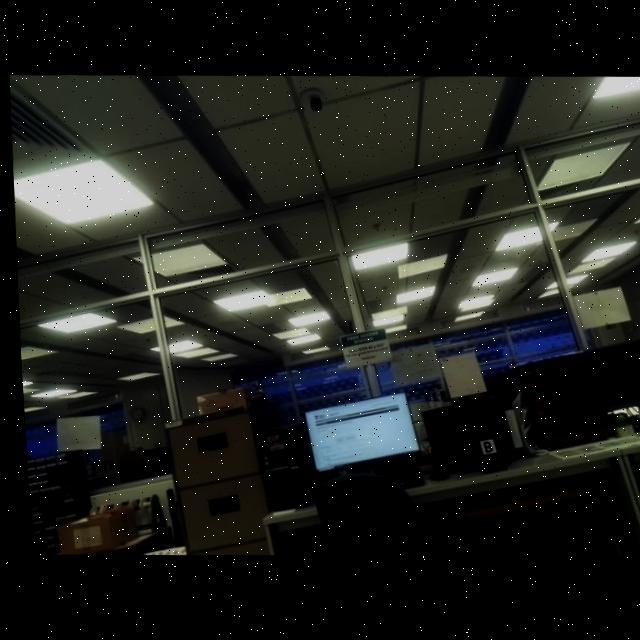B: (477, 442, 488, 455), (478, 443, 487, 454)
